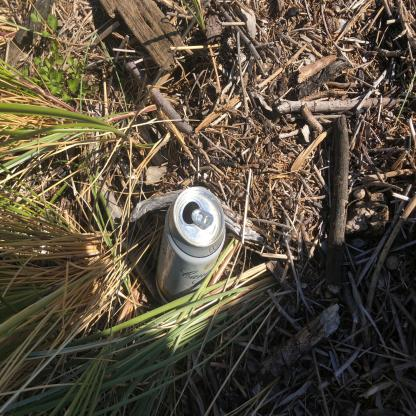trash: (66, 196, 179, 310)
